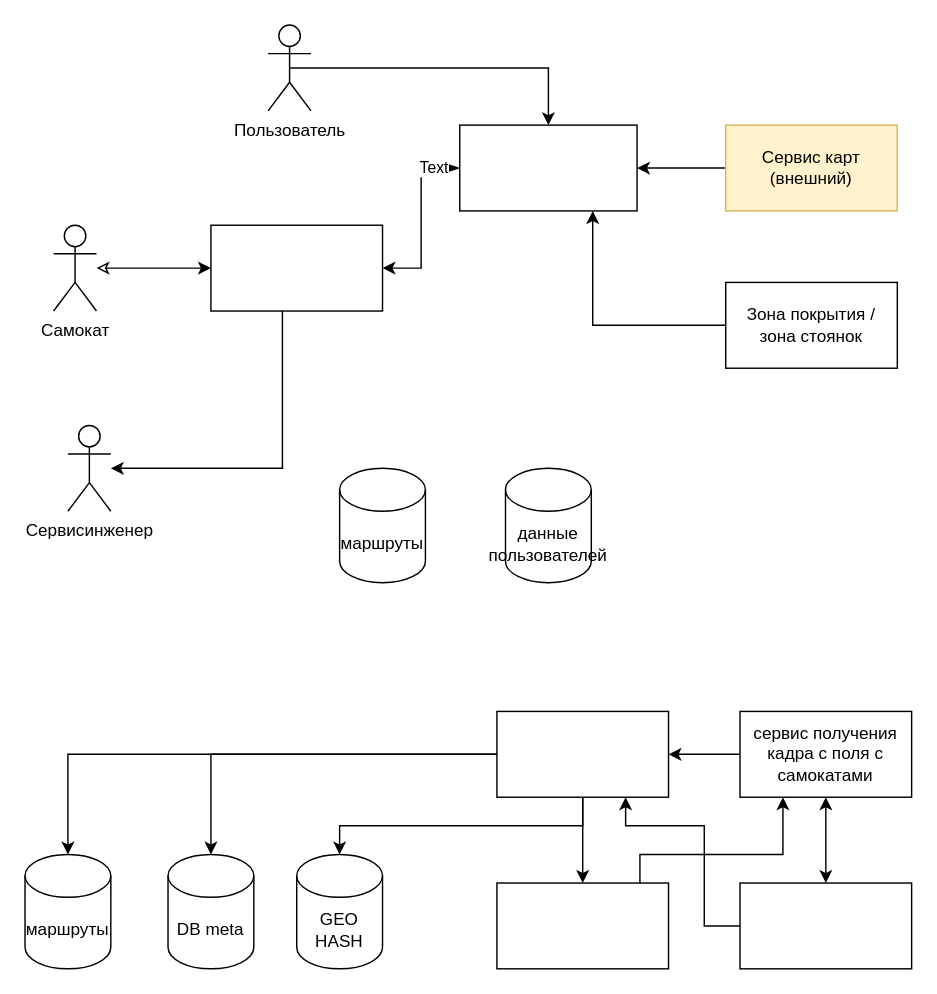
Image size: 937x994. Some labels were removed from this diagram. Here are the shapes that lost their labels. From the top down, the centre of each, then its label:
the point at 547,167: Приложение Android
the point at 296,267: Информация о доступных самокатах
the point at 582,753: сервис данных о самокате (начальная и конечная точки)
the point at 582,925: MQ наличия самокатов
the point at 825,925: анализ текущего положения/маршрута
